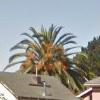Palm tree: (17, 15, 78, 77)
